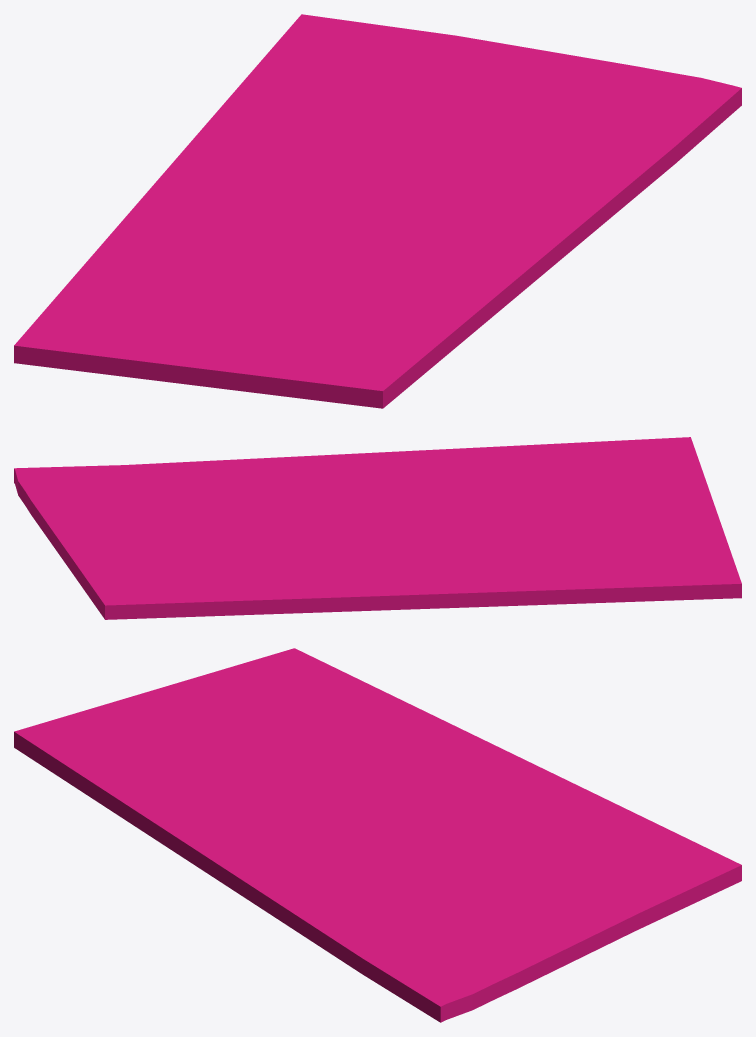
File: City_Plane (1).fbx
3 renders of one model, top to bottom at view 1: azimuth 30°, elevation 25°; view 2: azimuth 150°, elevation 25°; view 3: azimuth 270°, elevation 25°, orthographic. The views are drawn at different scales.
Parts seen in each view (by area): view 1: Building.002; view 2: Building.002; view 3: Building.002.
Part boxes in pixels (x1,y1,x2,y2): Building.002: (14, 14, 741, 408); Building.002: (14, 437, 741, 619); Building.002: (14, 648, 741, 1022).
Bounding box in the file's own units: 13207 × 627 × 11265.
